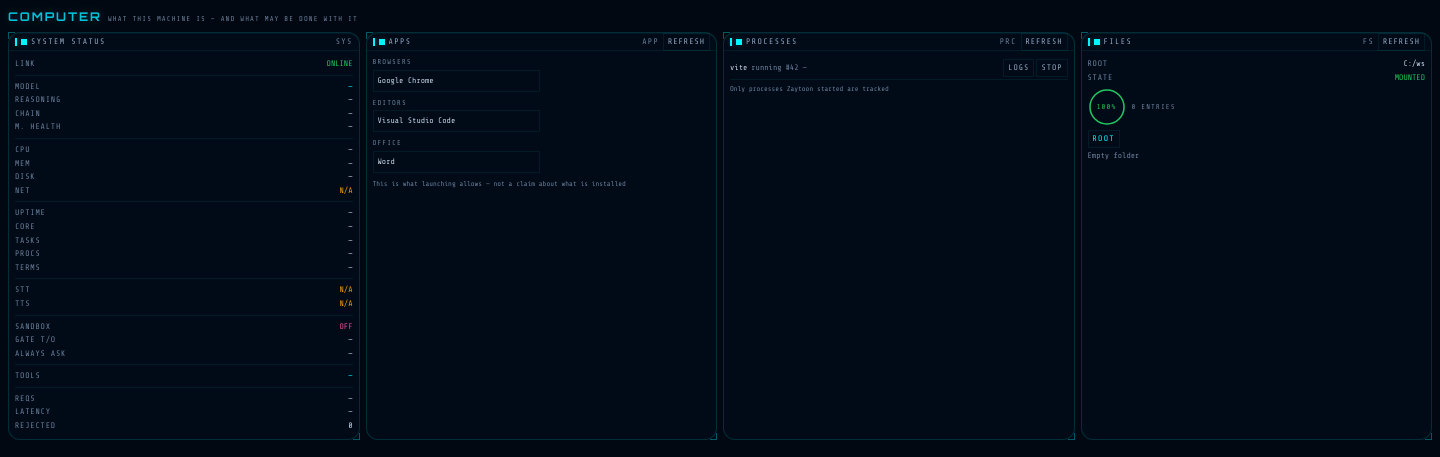
ComputerView › asks for a process's output only when asked for it
Click the button "LOGS" at x=1019, y=68, box [1003,59,1034,77]
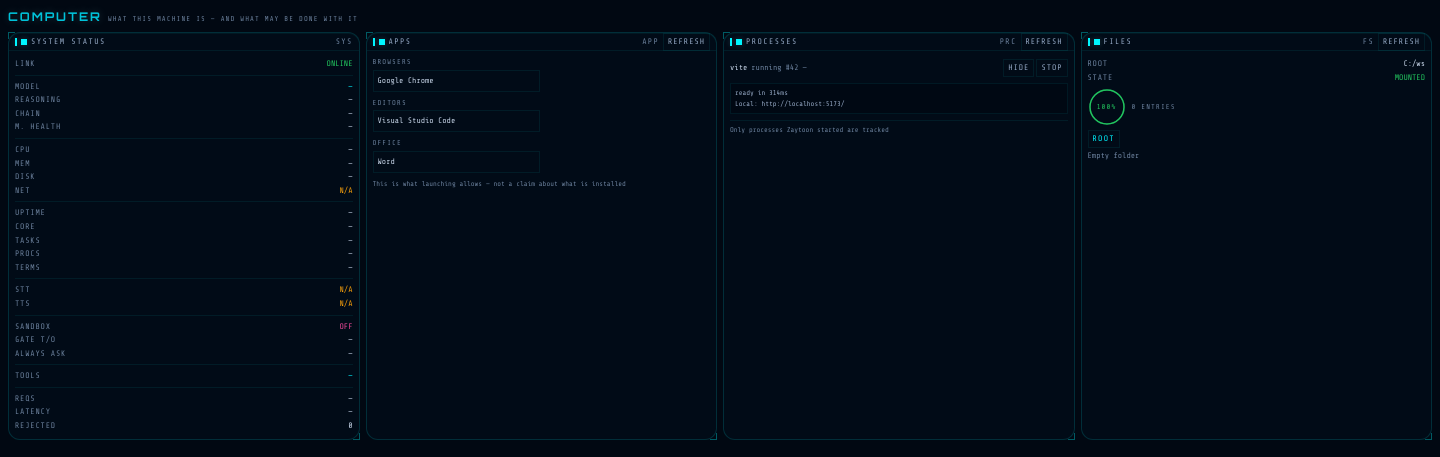
Expected: the text "ready in 314ms Local: http://localhost:5173/" is shown, [730,83,1068,114]
Click the button "HIDE" at x=1019, y=68, box [1003,59,1034,77]
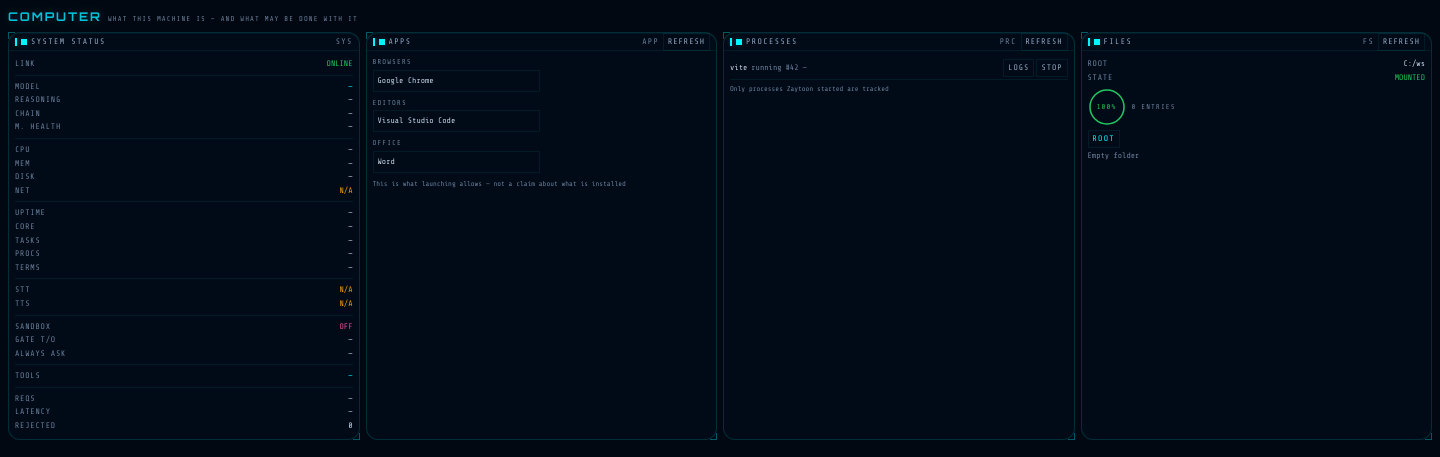
Expected: the text "ready in 314ms" is gone
